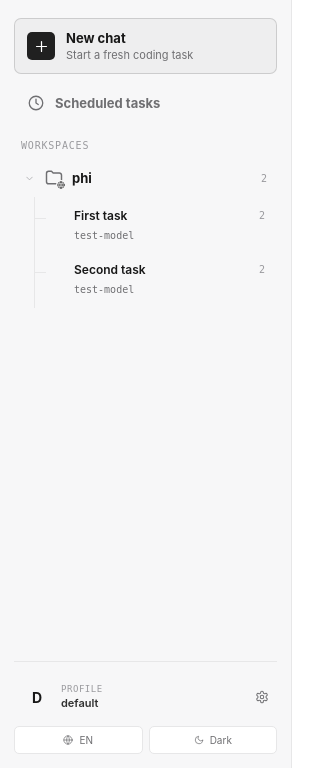
Test: Sidebar › collapses and expands a workspace branch
Click the button with aria-label "phi, 2 sessions".
click(146, 178)  # box [16,159,275,197]
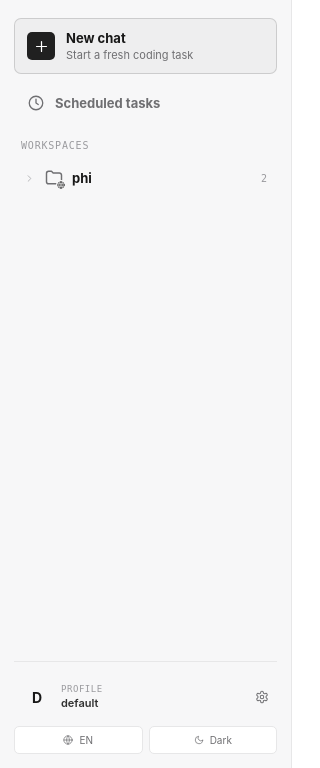
Expected: the button "First task" is gone
Click the button with aria-label "phi, 2 sessions".
click(146, 178)  # box [16,159,275,197]
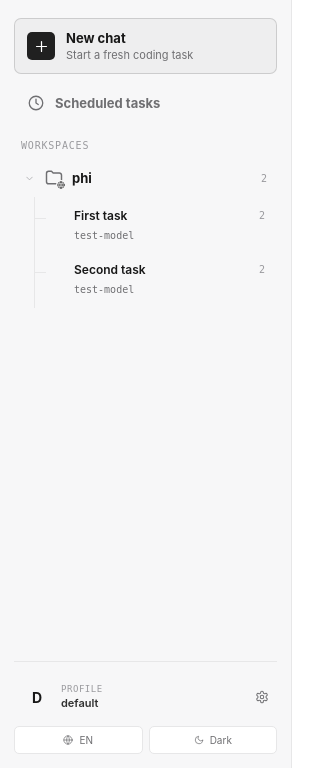
Expected: the text "First task" is shown, [74,208,127,223]
